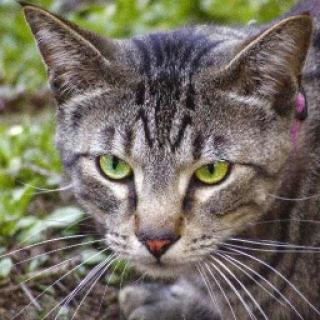cat: (23, 7, 320, 285)
nose: (128, 213, 184, 262)
